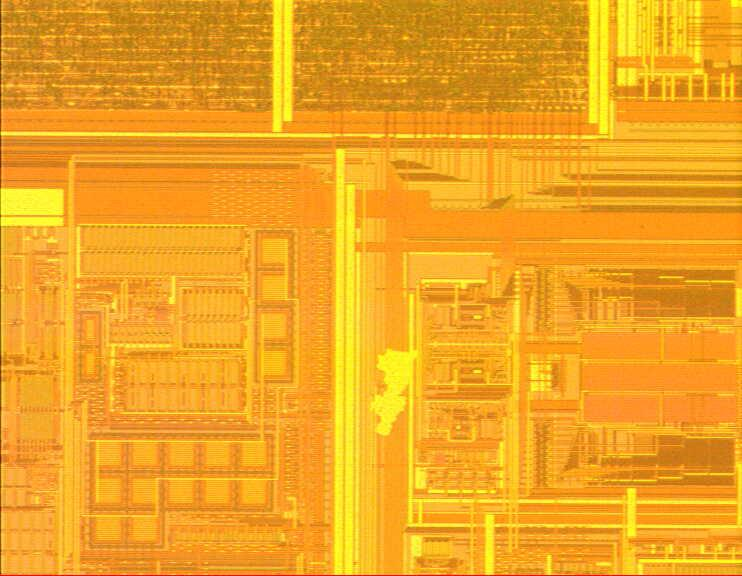BLOCK ETCH: (354, 337, 428, 442)
